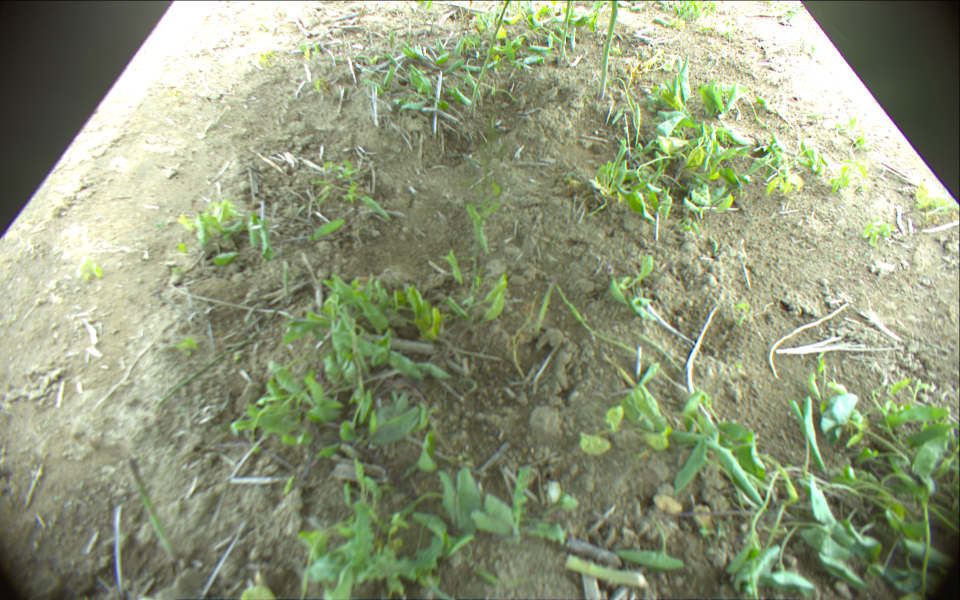aspa: (128, 457, 179, 563), (470, 1, 510, 115), (563, 555, 648, 587), (596, 1, 620, 101), (556, 1, 572, 71)
